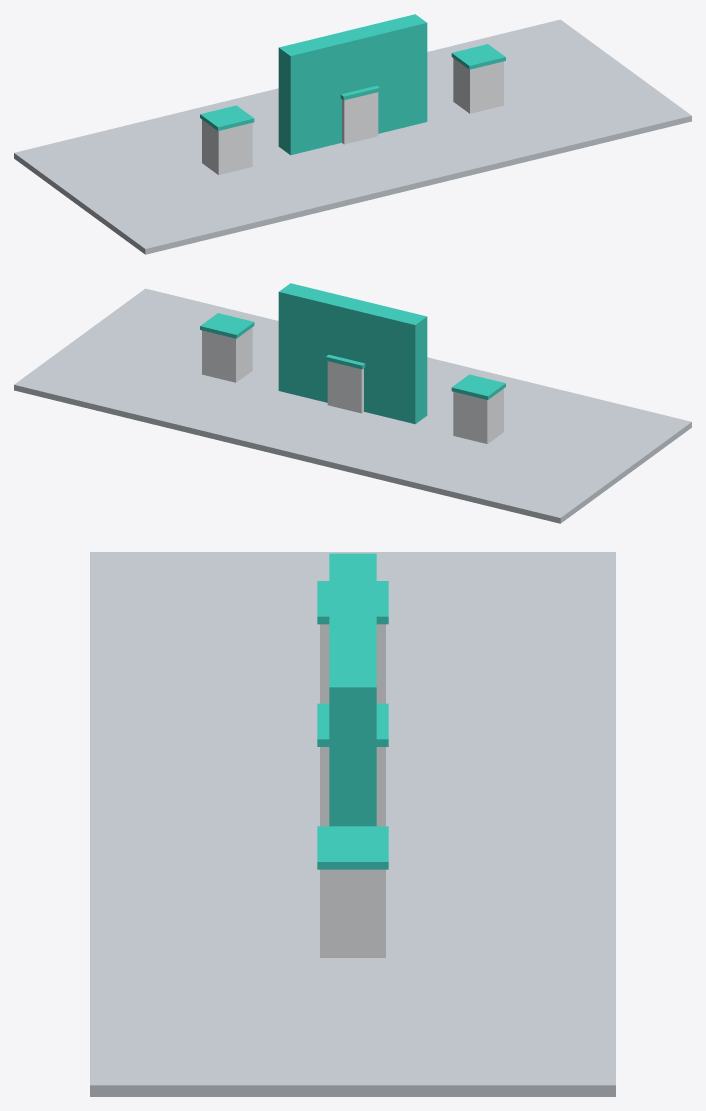
3 views of the same model, one above another, from view 1: azimuth 30°, elevation 25°; view 2: azimuth 150°, elevation 25°; view 3: azimuth 270°, elevation 25° (orthographic). The views are drawn at different scales.
Parts seen in each view (by area): view 1: Exhibition Booth Concept; view 2: Exhibition Booth Concept; view 3: Exhibition Booth Concept.
Boxes of the visible parts, left/top/right/bottom form: Exhibition Booth Concept: left=14, top=14, right=691, bottom=254; Exhibition Booth Concept: left=14, top=283, right=691, bottom=523; Exhibition Booth Concept: left=90, top=552, right=615, bottom=1096.
Size of the model in its own units: 12 by 2.2 by 5.
